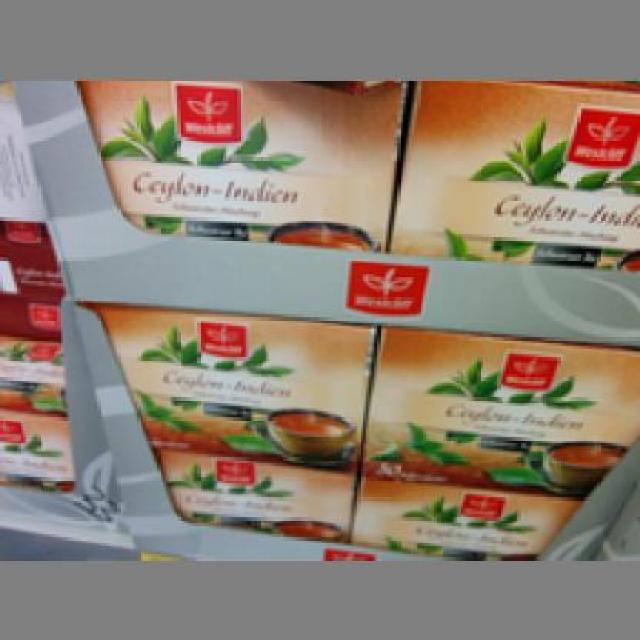Tea: (74, 78, 406, 252), (386, 80, 637, 271), (360, 323, 637, 494), (80, 303, 369, 466)
